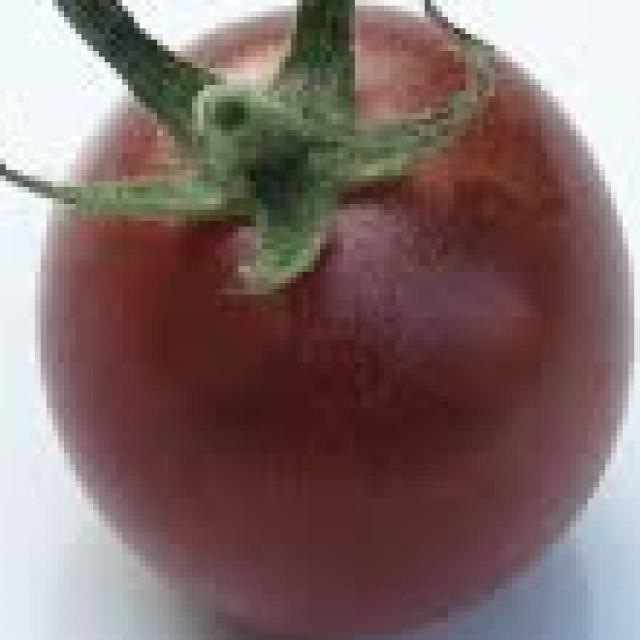Healthy: (29, 20, 630, 640)
